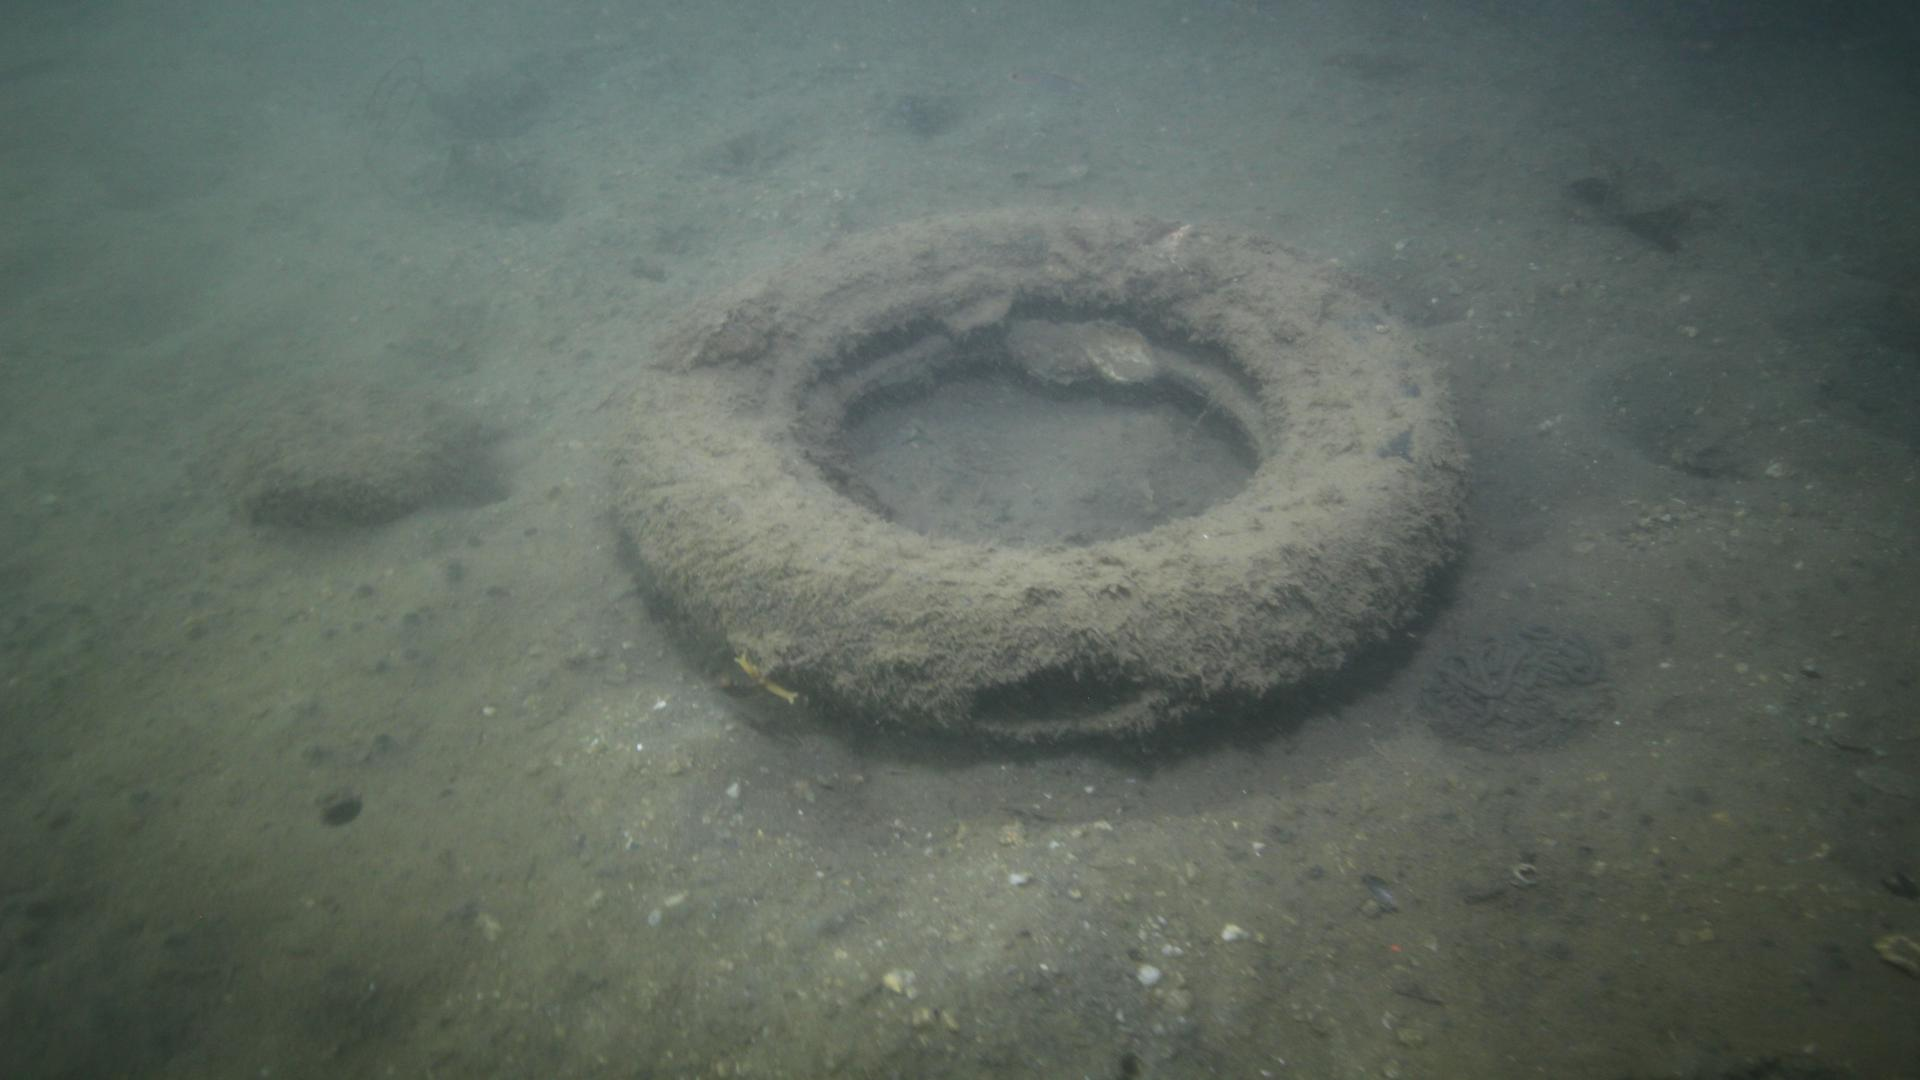tire: (604, 202, 1474, 746)
